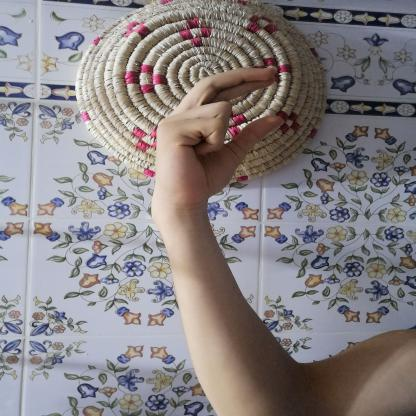DHELL: (139, 57, 294, 234)
